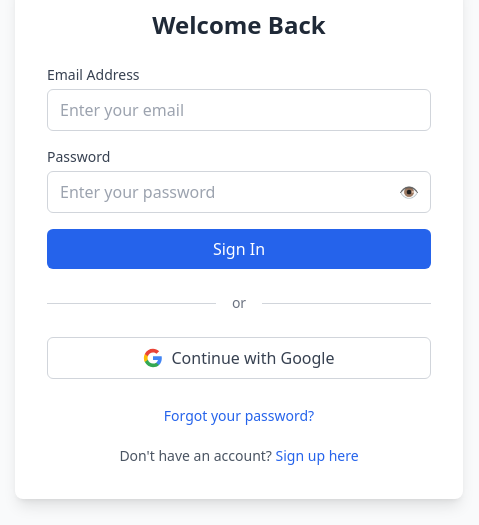
Test case: LoginForm › should prevent multiple submissions
Type "test@example.com" into the field labelled "Email Address". click: (239, 110)
box: [47,89,431,131]
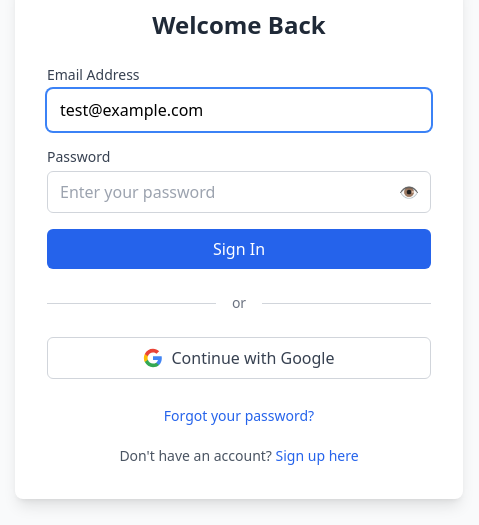
Type "password123" into the password field labelled "Password". click: (239, 192)
box: [47,171,431,213]
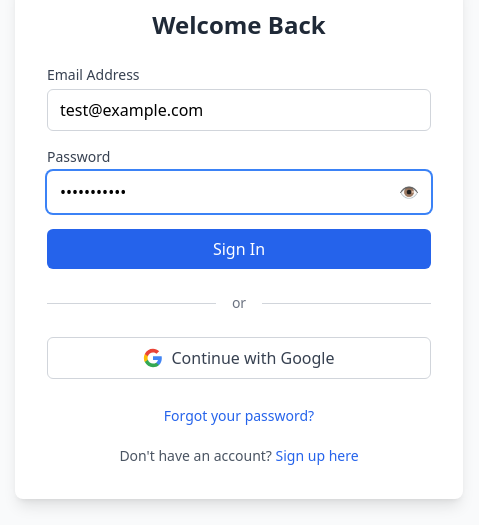
// First submission
Click the button "Sign In". click: (239, 249)
box: [47,229,431,269]
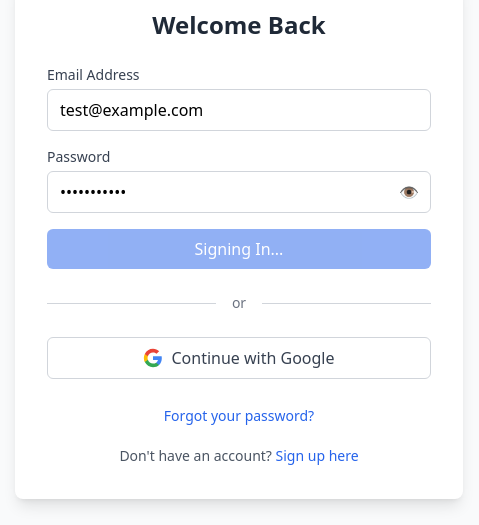
Now the button named "sign in" is disabled
// Try to submit again - should not call signIn again
Click the button named "sign in". click: (239, 249)
box: [47,229,431,269]
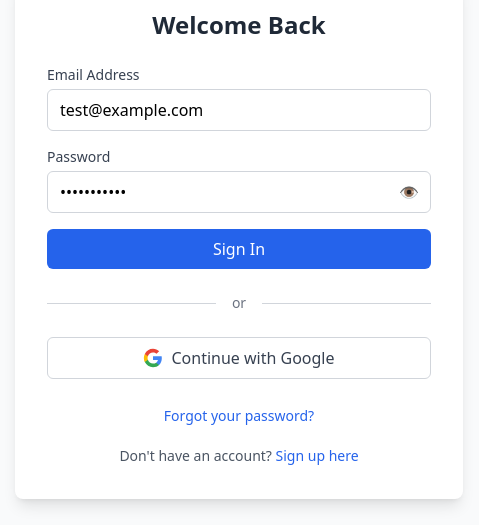
Now the button "Sign In" is enabled, box [47,229,431,269]
